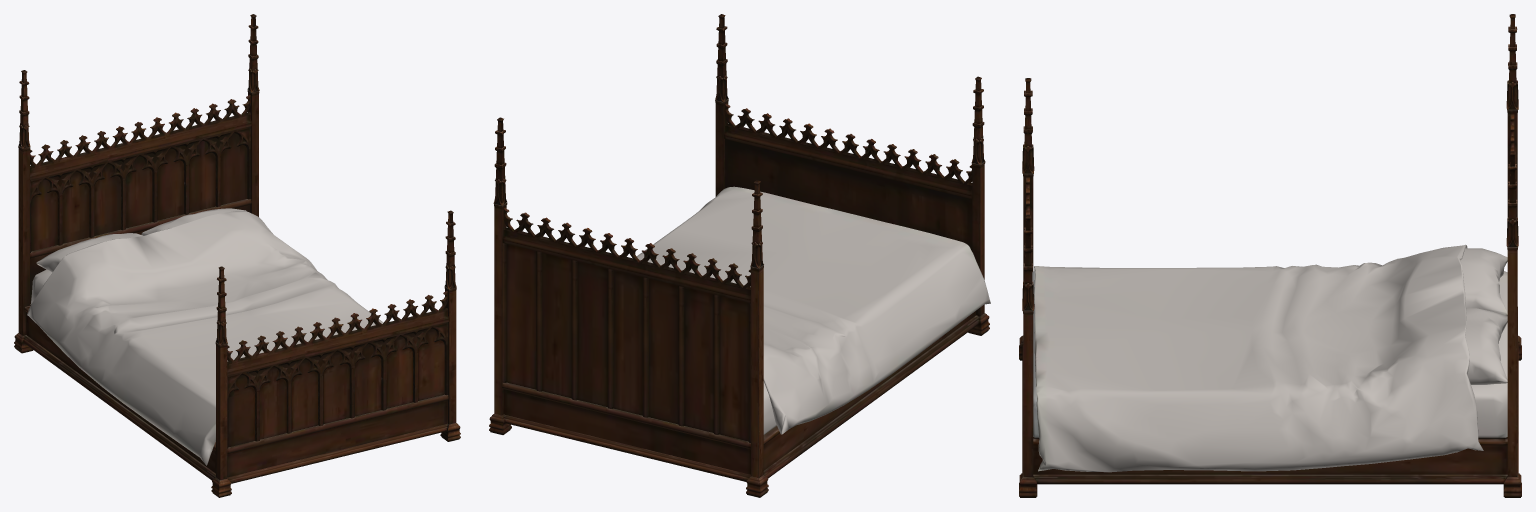
File: bed.glb
3 views of the same model, side by side, from view 1: azimuth 30°, elevation 25°; view 2: azimuth 150°, elevation 25°; view 3: azimuth 270°, elevation 25° (orthographic). The views are drawn at different scales.
Parts seen in each view (by area): view 1: GothicBed_01; view 2: GothicBed_01; view 3: GothicBed_01.
Boxes of the visible parts, x1,y1,x2,y2 form: GothicBed_01: (14, 14, 460, 497); GothicBed_01: (489, 14, 990, 497); GothicBed_01: (1019, 14, 1521, 497).
Size of the model in its own units: 1.49 by 1.53 by 2.04.
1 material, 1 textured.
